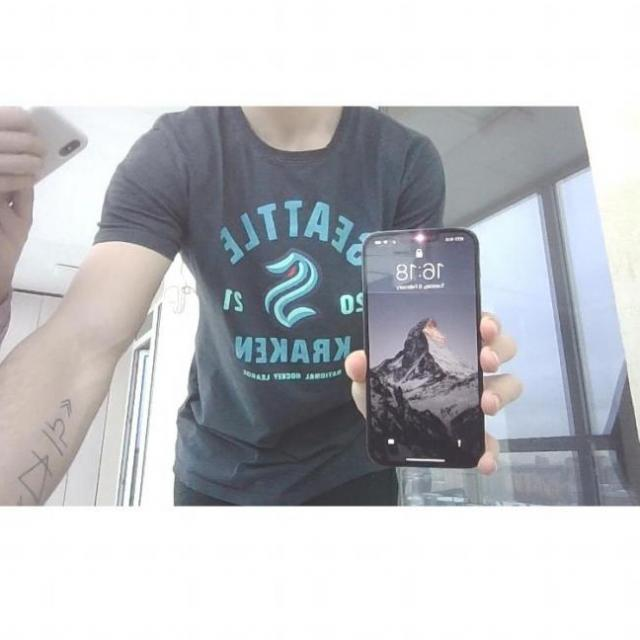device: (349, 225, 496, 470)
